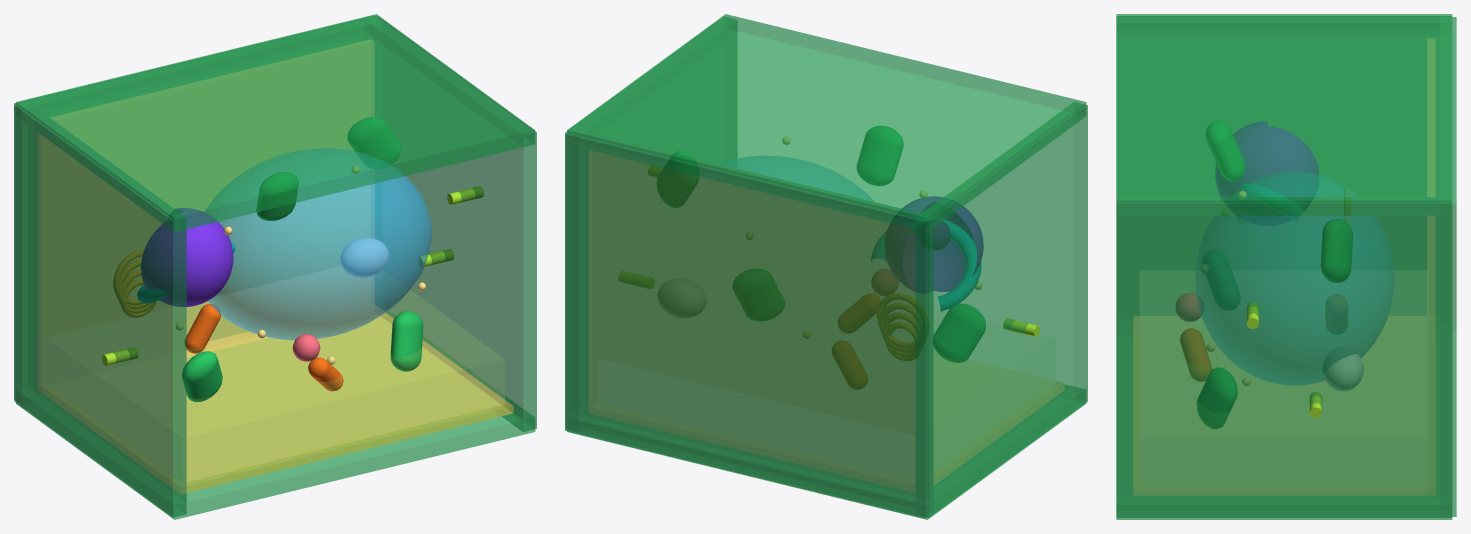
File: plant-cell.glb
The picture shows the model from 3 angles, left to right: view 1: azimuth 30°, elevation 25°; view 2: azimuth 150°, elevation 25°; view 3: azimuth 270°, elevation 25°; orthographic projection. The views are drawn at different scales.
Visible parts, largest first — view 1: part_cell-wall, part_cell-membrane, part_cytoplasm, part_large-vacuole, part_nucleus, part_chloroplast_2, part_chloroplast_4, part_chloroplast_3, part_chloroplast_1, part_amyloplast, part_golgi, part_plasmodesmata (+3 smaller); view 2: part_cell-wall, part_cell-membrane, part_nucleus, part_large-vacuole, part_chloroplast_1, part_chloroplast_3, part_chloroplast_2, part_endoplasmic-reticulum, part_golgi, part_amyloplast, part_chloroplast_4, part_mitochondria_1 (+2 smaller); view 3: part_cell-wall, part_large-vacuole, part_cell-membrane, part_nucleus, part_chloroplast_2, part_chloroplast_4, part_chloroplast_3, part_mitochondria_2, part_amyloplast, part_plasmodesmata, part_peroxisome.
Boxes of the visible parts, x1,y1,x2,y2 form: part_cell-wall: (14, 14, 536, 519); part_cell-membrane: (38, 40, 513, 493); part_cytoplasm: (187, 291, 504, 481); part_large-vacuole: (205, 149, 431, 340); part_nucleus: (141, 208, 233, 306); part_chloroplast_2: (390, 311, 423, 371); part_chloroplast_4: (347, 117, 401, 164); part_chloroplast_3: (256, 172, 298, 220); part_chloroplast_1: (182, 351, 222, 402); part_amyloplast: (340, 238, 388, 277); part_golgi: (113, 250, 156, 317); part_plasmodesmata: (102, 186, 483, 365); part_cell-wall: (565, 14, 1087, 519); part_cell-membrane: (589, 150, 1063, 491); part_nucleus: (885, 196, 983, 291); part_large-vacuole: (721, 156, 873, 201); part_chloroplast_1: (933, 304, 985, 362); part_chloroplast_3: (857, 126, 903, 185); part_chloroplast_2: (733, 269, 784, 320); part_endoplasmic-reticulum: (871, 220, 981, 311); part_golgi: (877, 293, 915, 360); part_amyloplast: (658, 279, 705, 317); part_chloroplast_4: (657, 151, 698, 207); part_mitochondria_1: (832, 341, 867, 389); part_cell-wall: (1116, 14, 1456, 519); part_large-vacuole: (1195, 172, 1393, 384); part_cell-membrane: (1134, 39, 1434, 494); part_nucleus: (1215, 121, 1318, 196); part_chloroplast_2: (1197, 367, 1237, 428); part_chloroplast_4: (1321, 219, 1352, 282); part_chloroplast_3: (1206, 120, 1245, 181); part_mitochondria_2: (1180, 328, 1211, 381); part_amyloplast: (1324, 354, 1363, 390); part_plasmodesmata: (1246, 302, 1322, 418); part_peroxisome: (1176, 293, 1201, 321).
Bounding box in the file's own units: 2.22 × 1.68 × 1.62.
